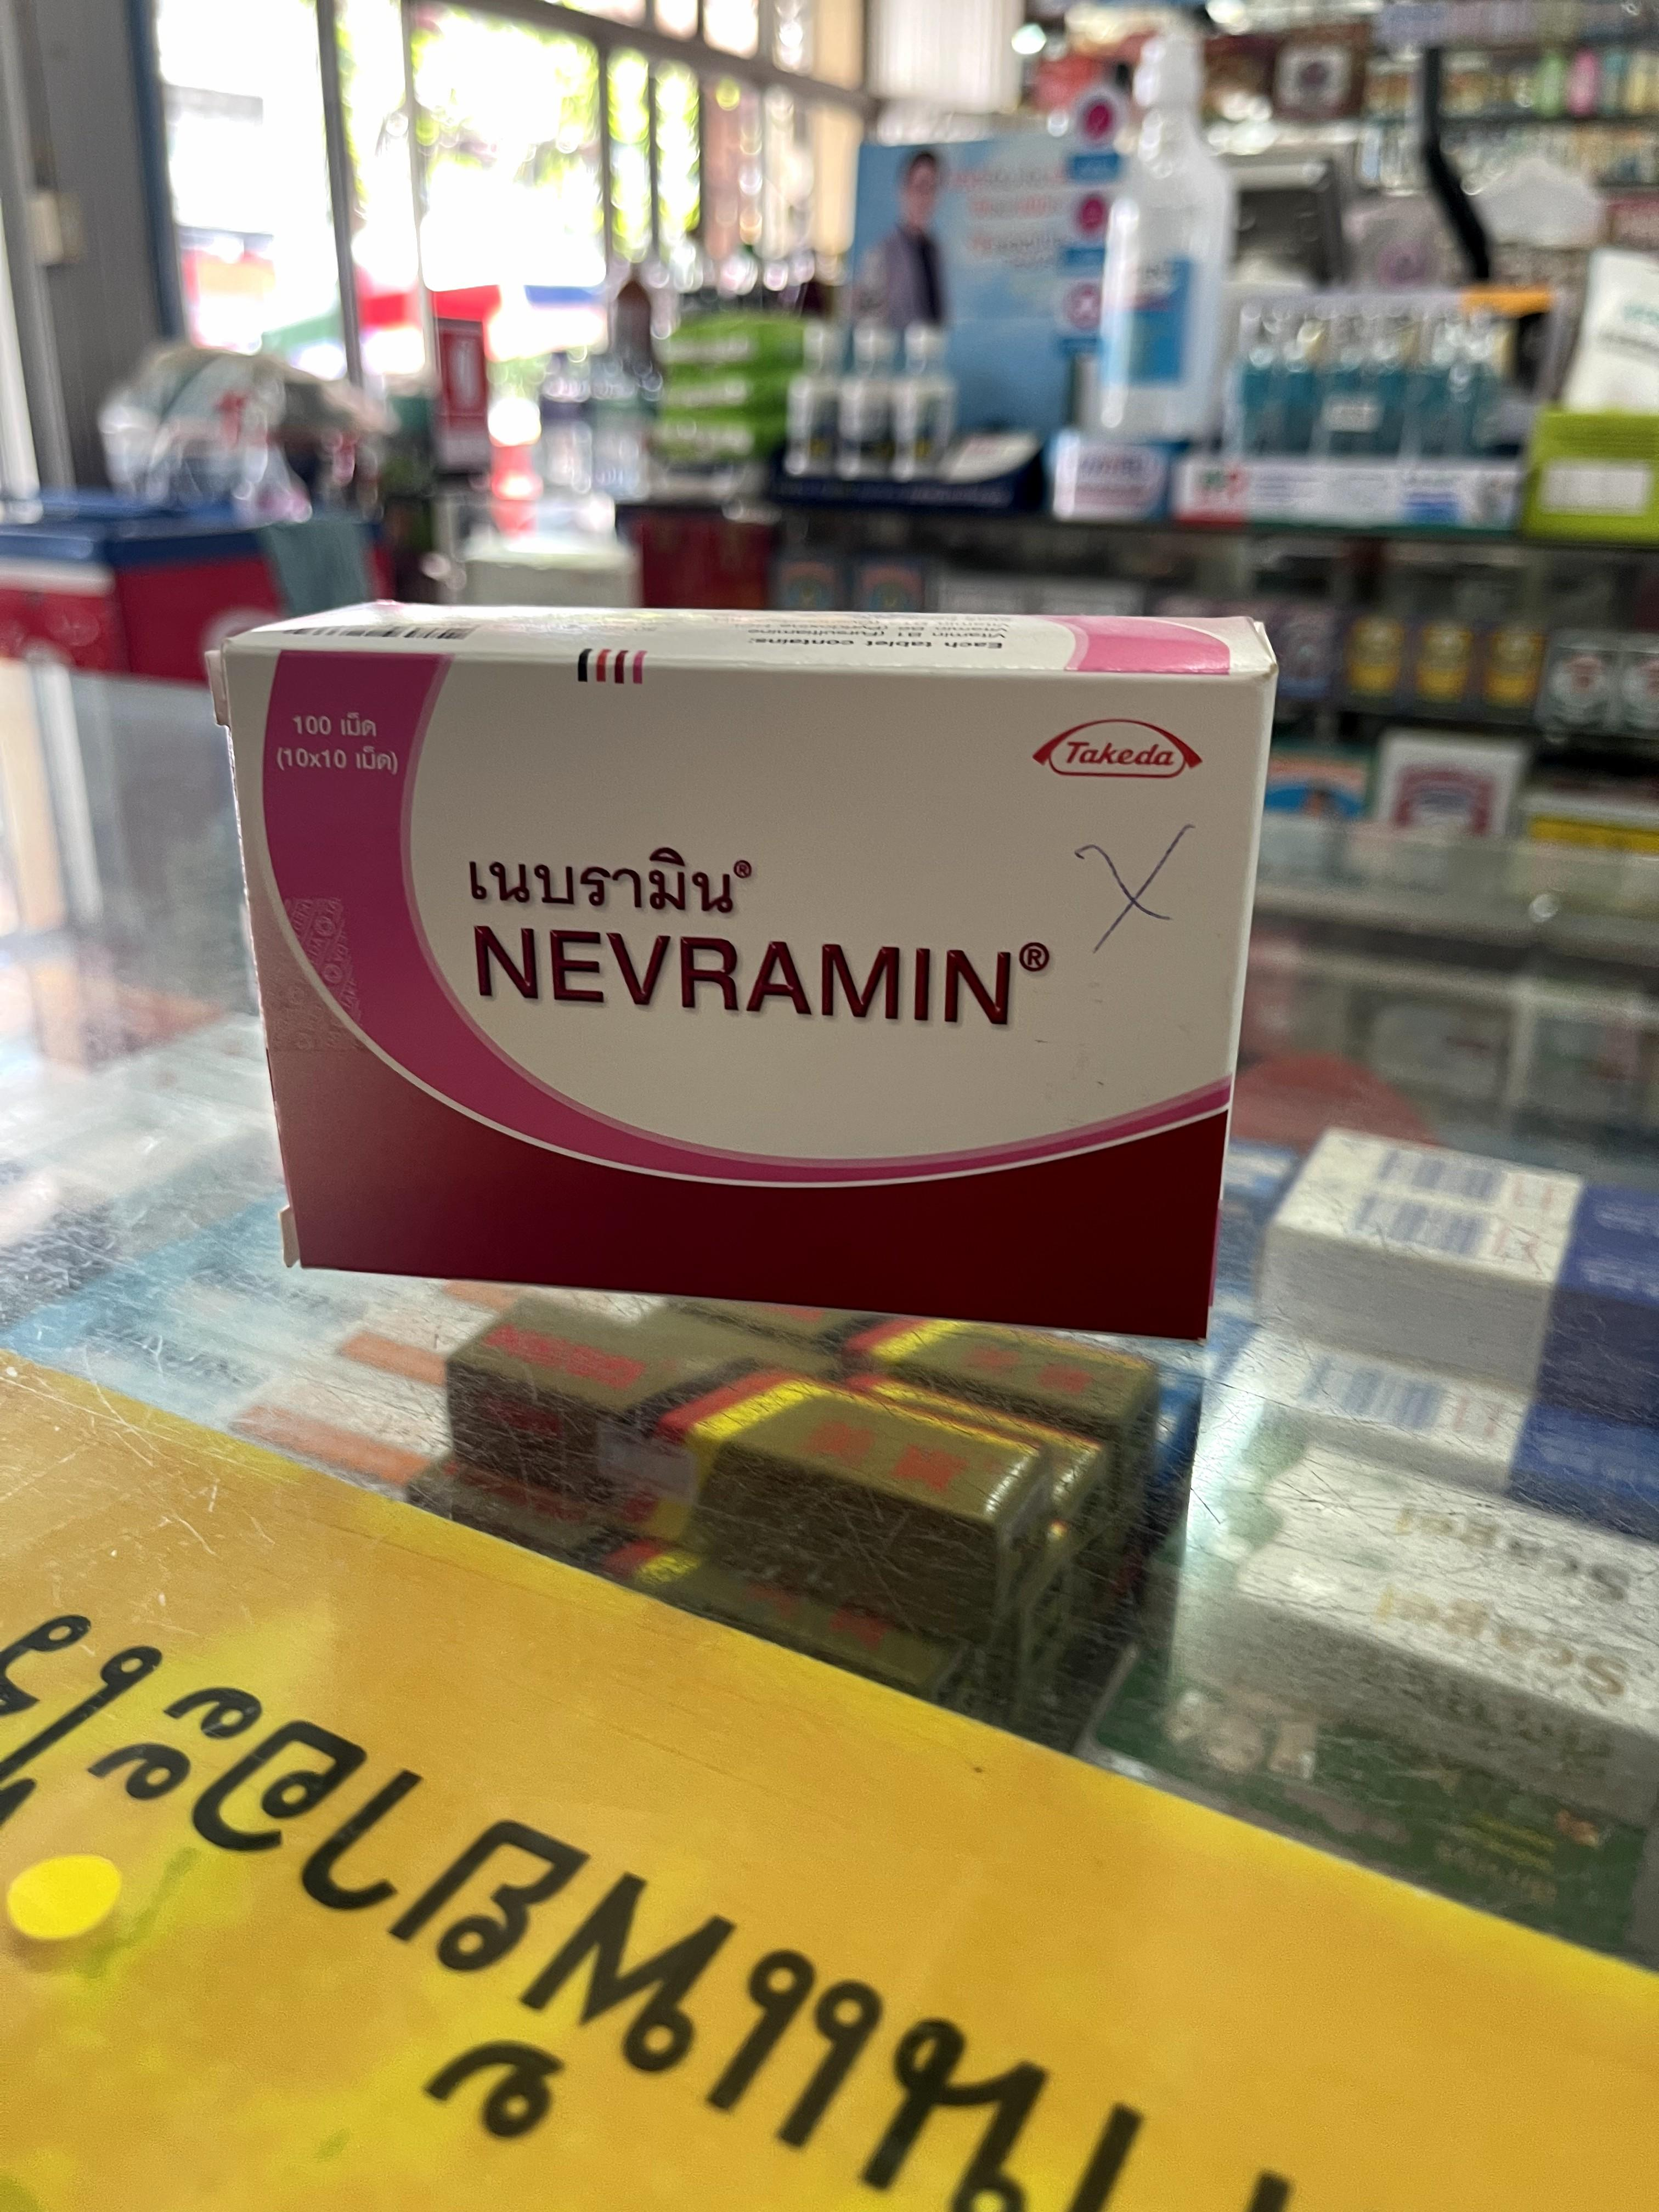Nevramin: (225, 606, 1270, 1339)
